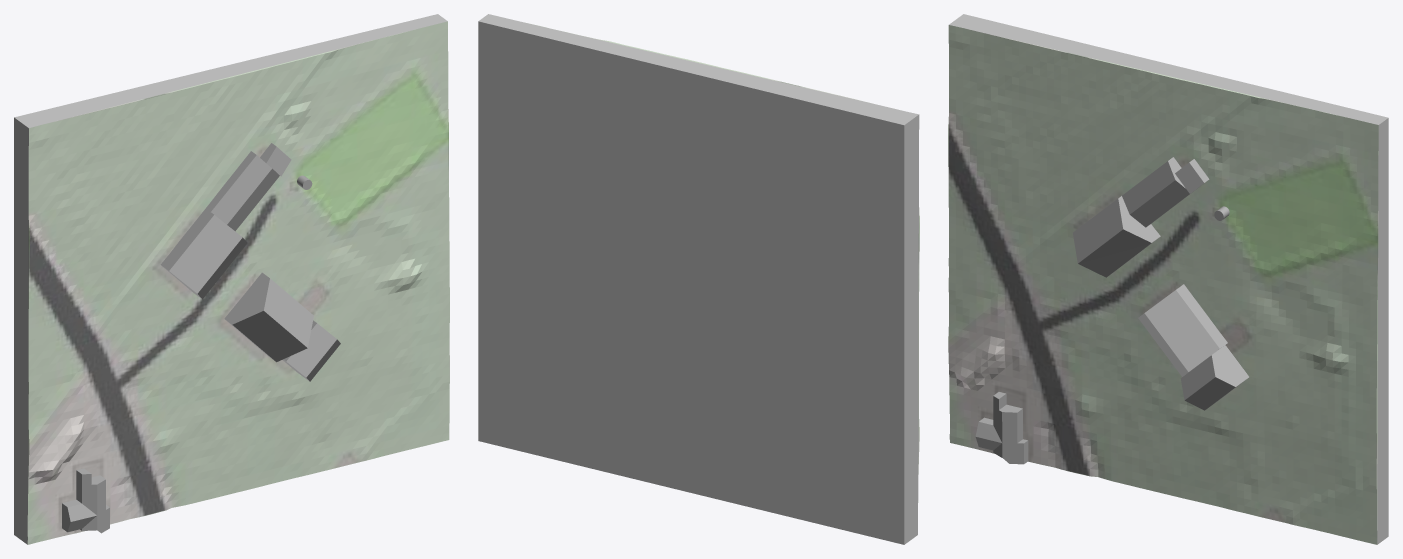
Rendered from 4ce78ddf-c1cb-415b-88d2-03d2b761b7dd.obj.
3 views of the same model, side by side, from view 1: azimuth 30°, elevation 25°; view 2: azimuth 150°, elevation 25°; view 3: azimuth 330°, elevation 25° (orthographic).
Parts seen in each view (by area): view 1: terrain, buildings; view 2: terrain; view 3: terrain, buildings.
Boxes of the visible parts, x1,y1,x2,y2 form: terrain: (14, 14, 449, 544); buildings: (62, 143, 340, 533); terrain: (478, 14, 919, 544); terrain: (948, 14, 1388, 544); buildings: (975, 157, 1248, 464).
Size of the model in its own units: 122 by 115 by 18.
